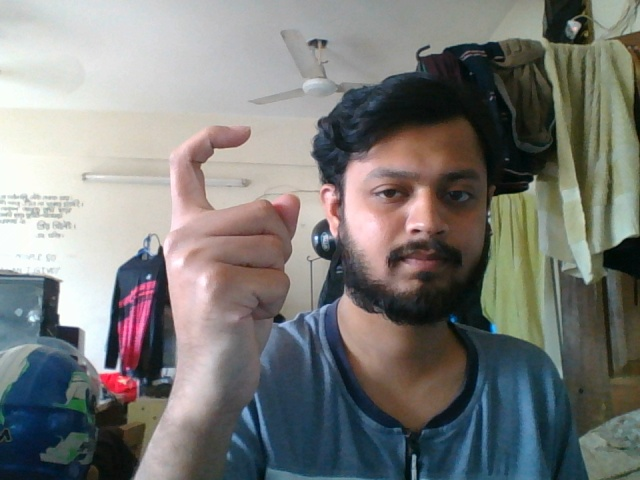e: (160, 119, 310, 473)
